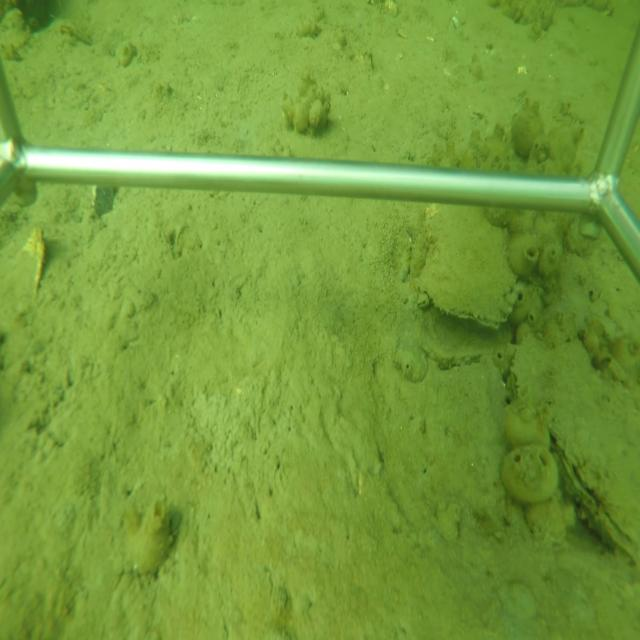Oyster-Closed: (543, 419, 640, 578), (414, 204, 522, 333), (509, 331, 555, 405)
